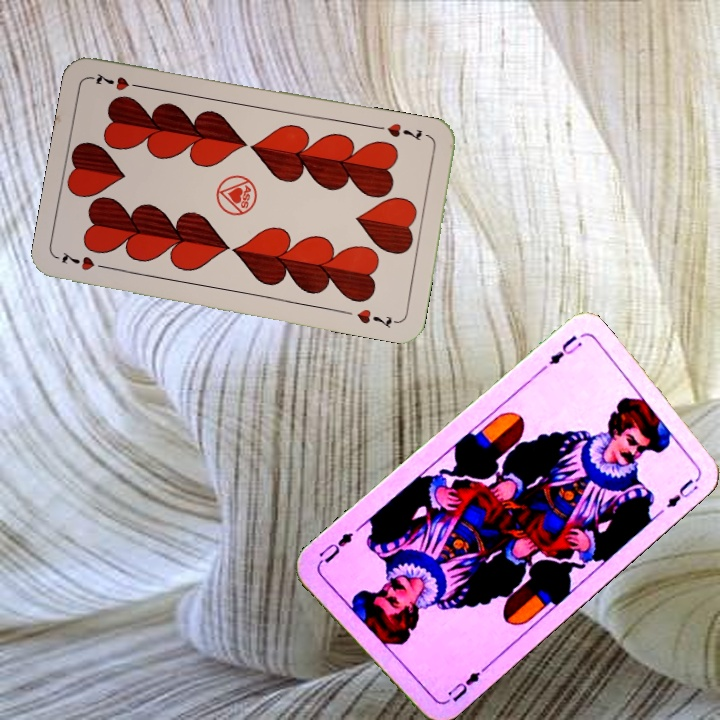EU: (439, 663, 488, 707), (544, 331, 585, 367)
H7: (58, 248, 114, 273), (383, 119, 425, 144)
